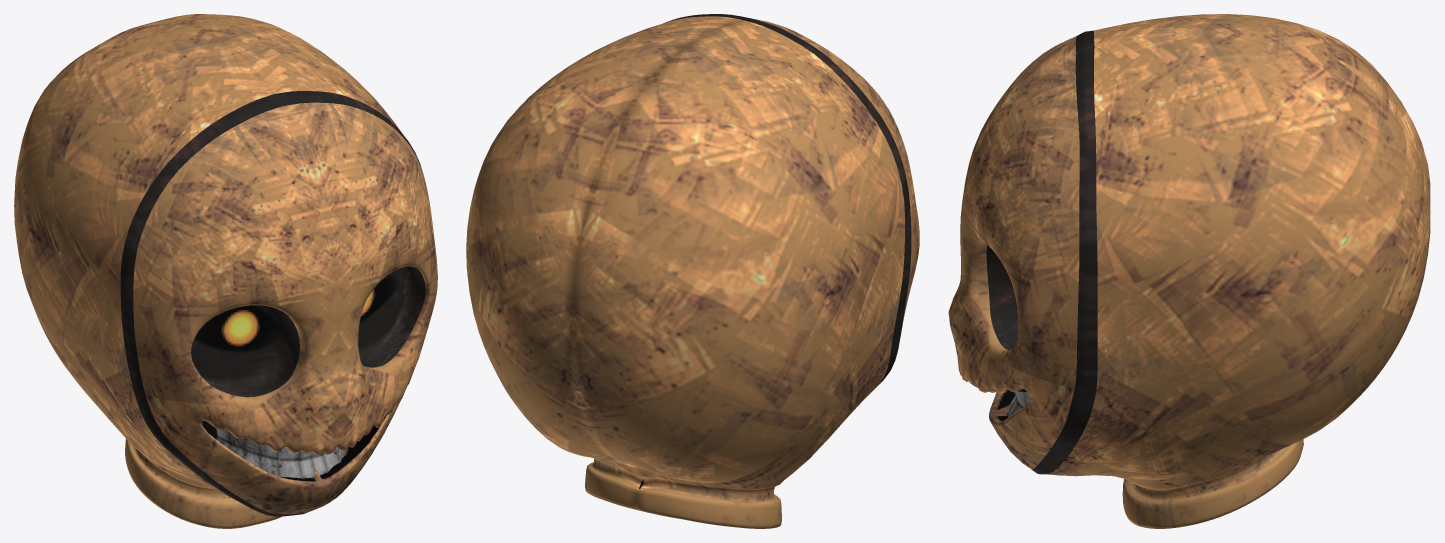
The model's file is helmet1MOCK.glb.
3 views of the same model, side by side, from view 1: azimuth 30°, elevation 25°; view 2: azimuth 150°, elevation 25°; view 3: azimuth 270°, elevation 25° (orthographic). The views are drawn at different scales.
Visible parts, largest first — view 1: 1, 0; view 2: 1; view 3: 1.
Boxes of the visible parts, bbox=[...] form: 1: bbox=[14, 14, 437, 528]; 0: bbox=[216, 429, 348, 478]; 1: bbox=[466, 14, 919, 528]; 1: bbox=[948, 14, 1430, 528].
Bounding box in the file's own units: 1.13 × 1.52 × 1.4.
1 material, 1 textured.
